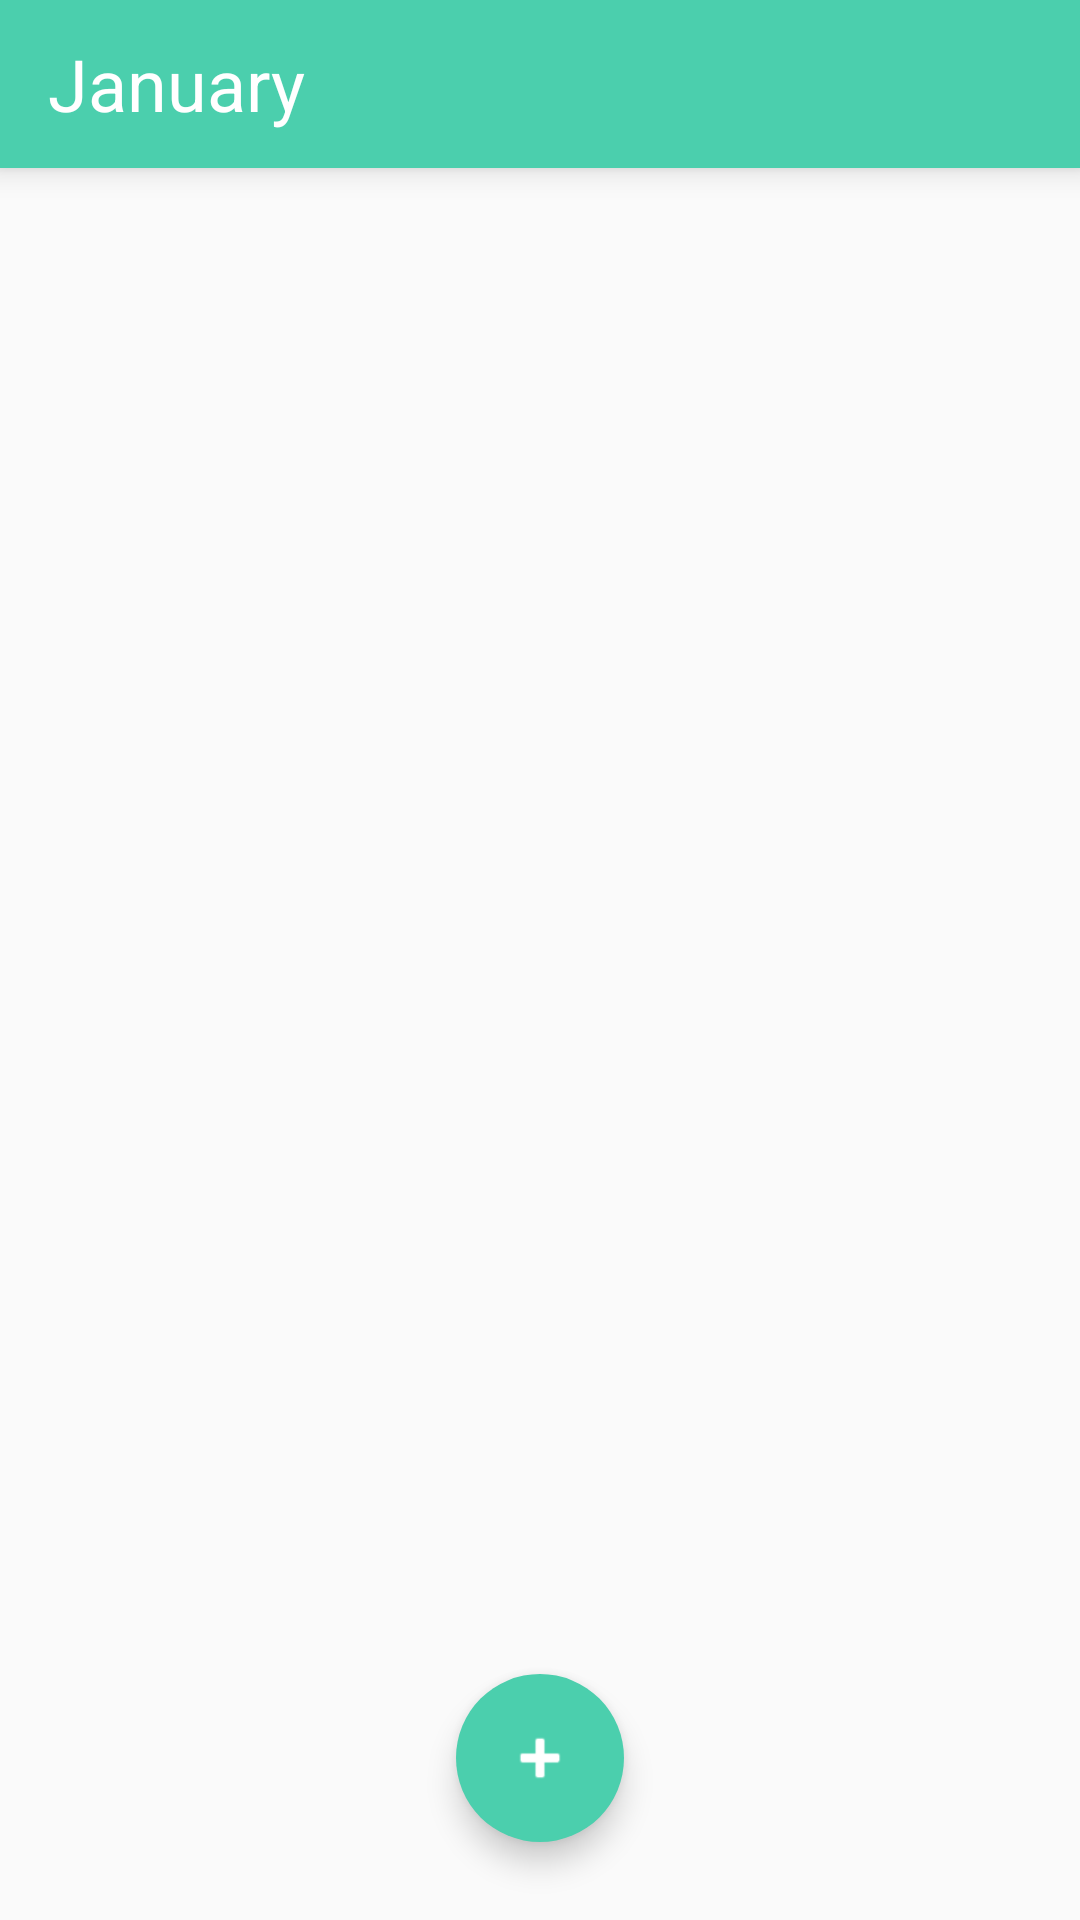

Icons on this 1080 × 1920 Android screen, each with its box as (x1, y1, x2, y2):
add: (456, 1674, 624, 1842)
